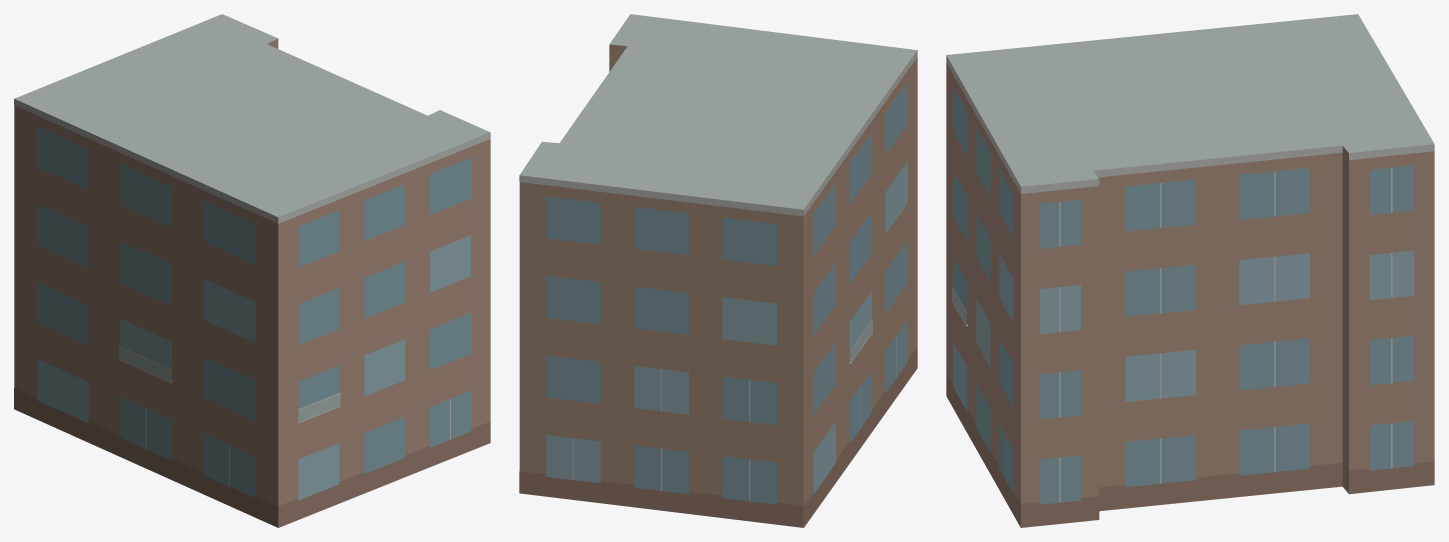
File: survey-upis-32598019.glb
The picture shows the model from 3 angles, left to right: view 1: azimuth 30°, elevation 25°; view 2: azimuth 150°, elevation 25°; view 3: azimuth 270°, elevation 25°; orthographic projection. The views are drawn at different scales.
Visible parts, largest first — view 1: survey-upis-32598019.tmp; view 2: survey-upis-32598019.tmp; view 3: survey-upis-32598019.tmp.
Part boxes in pixels (x1,y1,x2,y2): survey-upis-32598019.tmp: [14, 14, 490, 527]; survey-upis-32598019.tmp: [519, 14, 917, 527]; survey-upis-32598019.tmp: [946, 14, 1434, 527].
Bounding box in the file's own units: 12.74 × 11.7 × 15.2.
